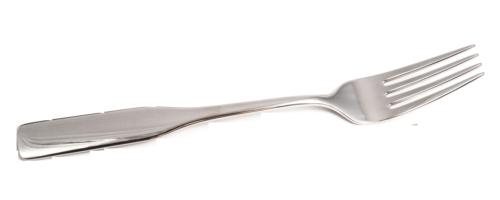Fork: (16, 44, 484, 161)
